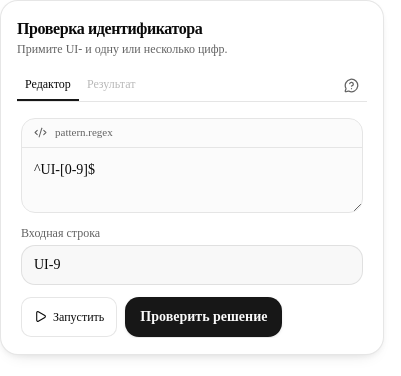
Test: stopping an exercise aborts the runner and ignores a late completion
The image size is (401, 376).
Click the button "Запустить": {"x": 69, "y": 317} [21,297,117,337]
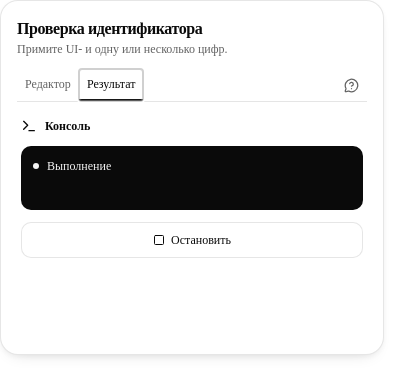
Click the button "Остановить": {"x": 192, "y": 240} [21,222,363,258]
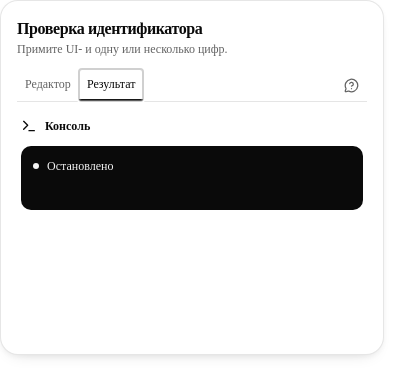
expect the text "Остановлено" is shown: met, box [33,159,113,173]
